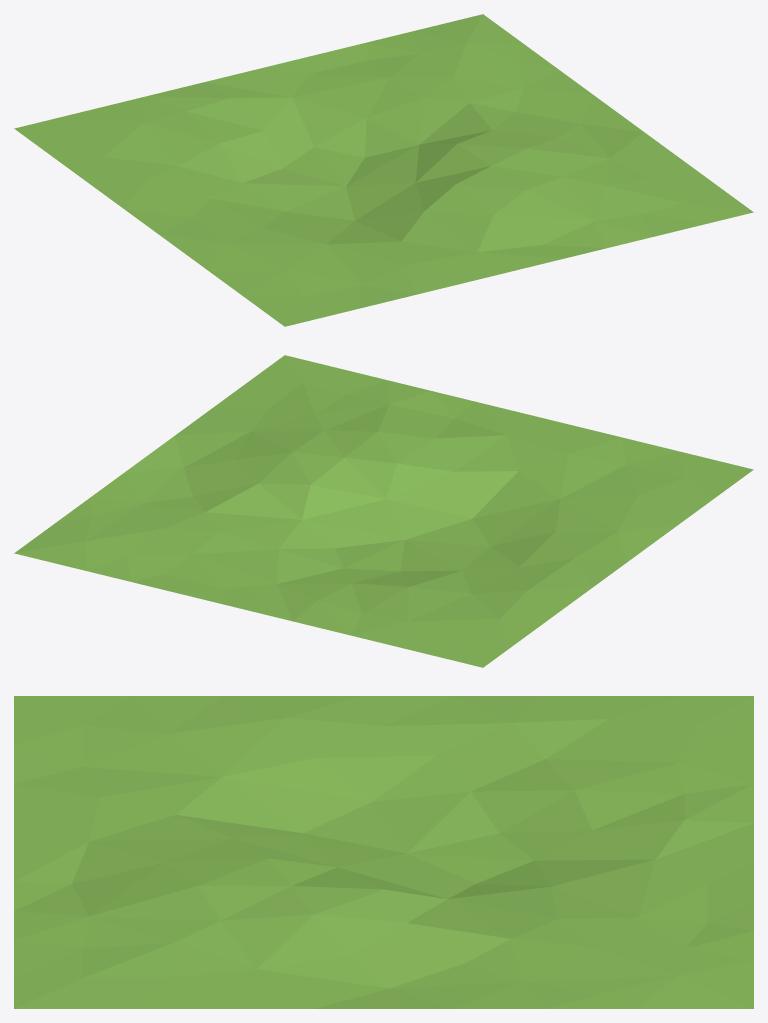
The model's file is MT_Terrain_S_b_12_LOD.fbx.
The picture shows the model from 3 angles, top to bottom: view 1: azimuth 30°, elevation 25°; view 2: azimuth 150°, elevation 25°; view 3: azimuth 270°, elevation 25°; orthographic projection. The views are drawn at different scales.
Visible parts, largest first — view 1: MT_Terrain_S_b_12_LOD0; view 2: MT_Terrain_S_b_12_LOD0; view 3: MT_Terrain_S_b_12_LOD0.
Part boxes in pixels (x1,y1,x2,y2): MT_Terrain_S_b_12_LOD0: (14, 14, 753, 326); MT_Terrain_S_b_12_LOD0: (14, 355, 753, 667); MT_Terrain_S_b_12_LOD0: (14, 696, 753, 1008).
Size of what is drawn, in the model's own units: 2500 by 141 by 2500.
